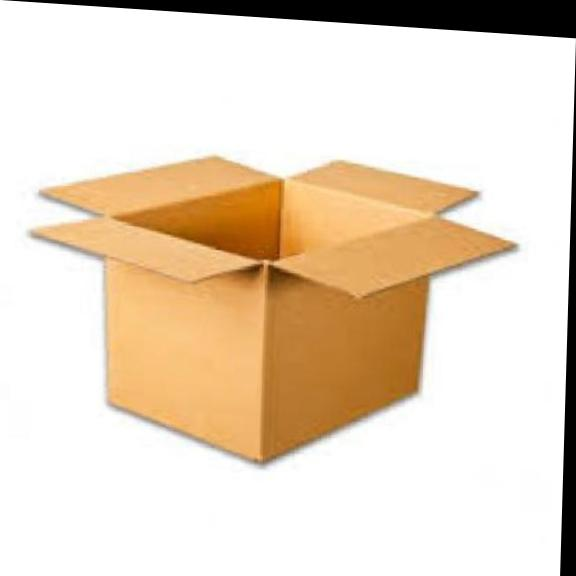Kertas: (35, 157, 511, 459)
